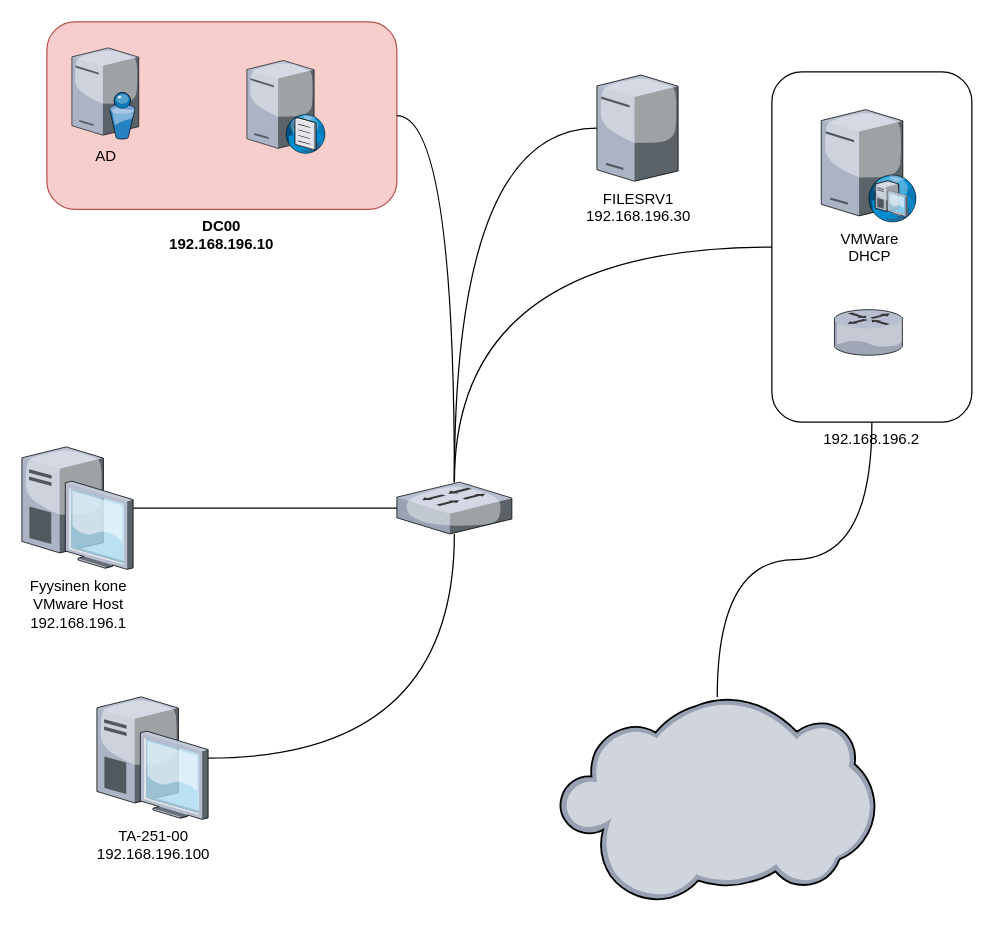
Some shapes in this 994 by 925 pixel diagram are drawn without their labels. The shapes that lost their labels are listed below. From the top down, each one's box as (x1, y1, x2, y2) in pixels, then its label:
(246, 58, 325, 153): DNS
(834, 309, 902, 355): VMWare default Gateway 192.168.196.2
(396, 482, 511, 533): firma.intra 192.168.100.0/24
(559, 696, 874, 902): Internet
